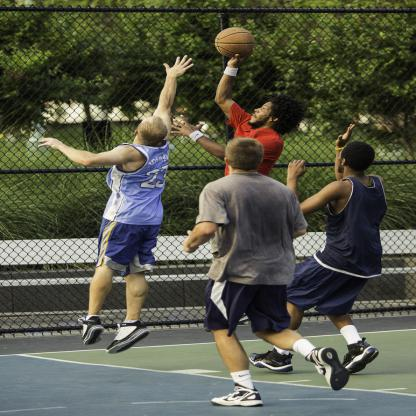Ball: (216, 28, 257, 59)
